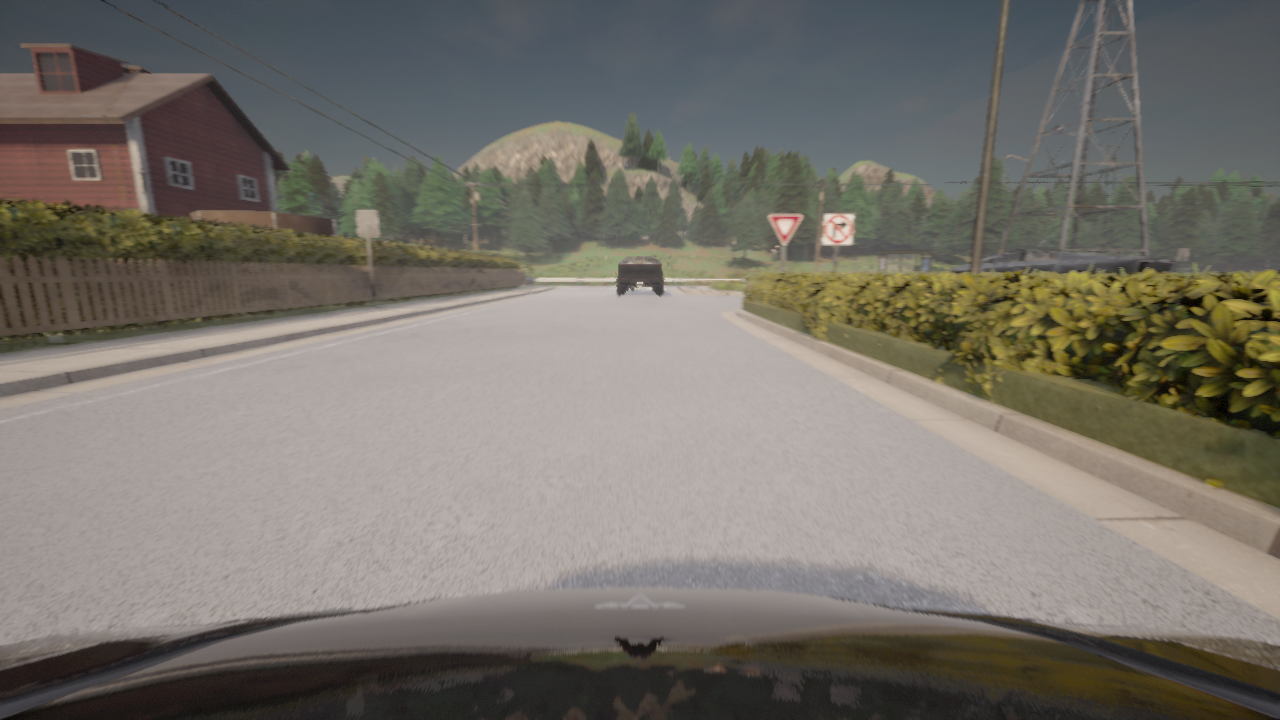cyclist: (0, 588, 1279, 719), (949, 249, 1173, 275), (616, 257, 662, 295), (523, 276, 535, 286), (631, 286, 635, 290)
